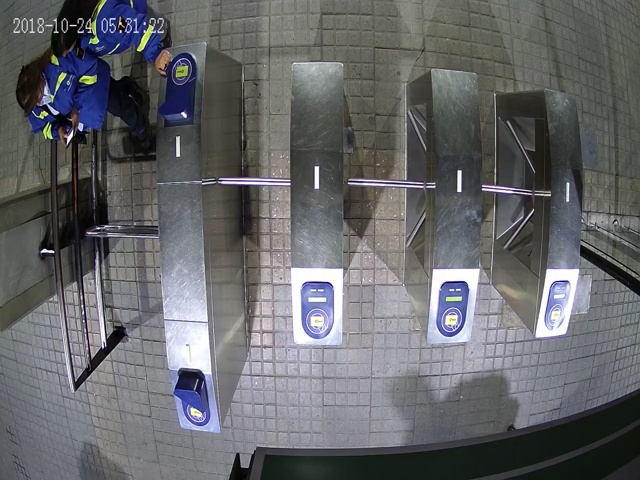Chaleco_azul: (15, 43, 152, 149), (51, 1, 172, 74)
